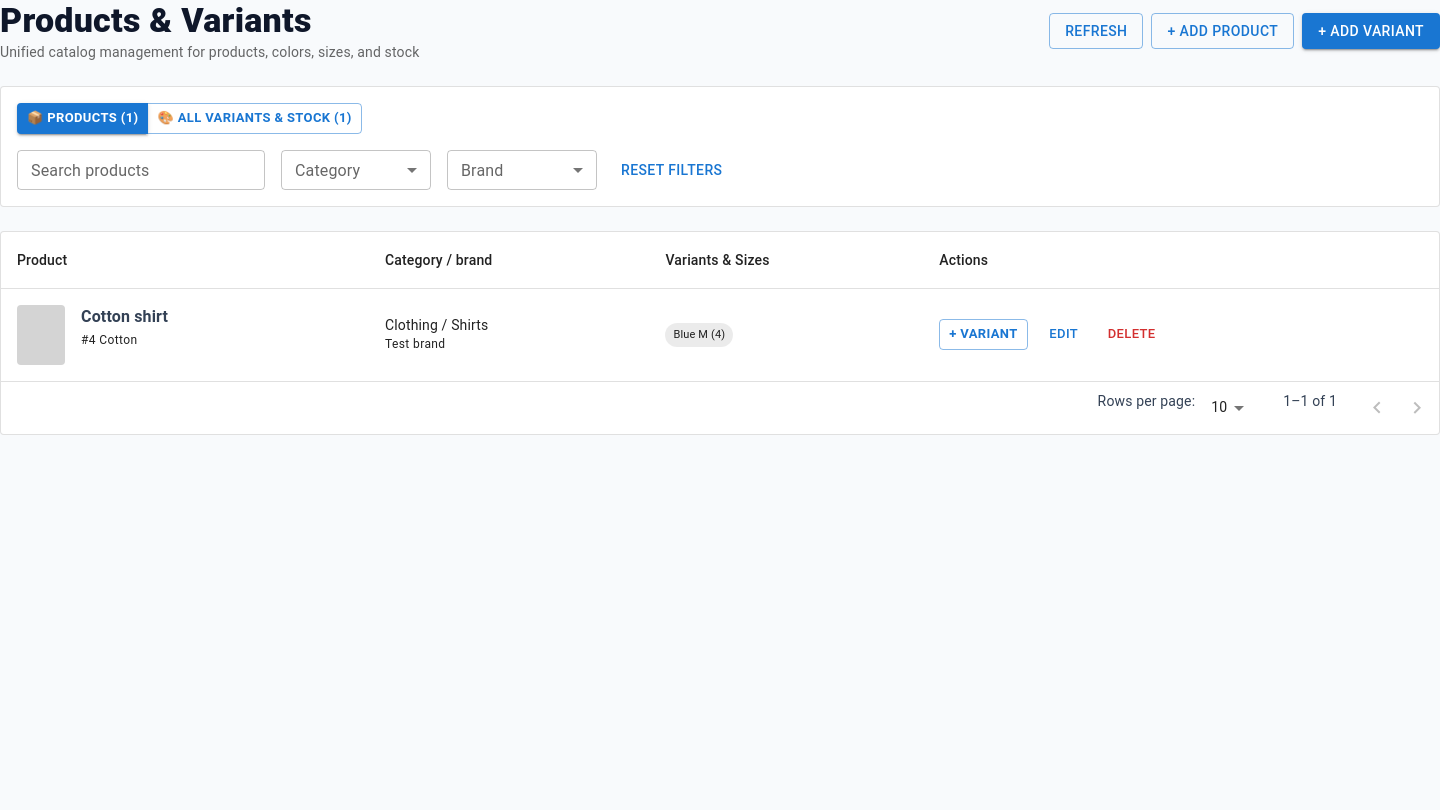
list search and delete errors are visible
The image size is (1440, 810).
Check: the text "Cotton shirt" is shown, box [81,305,168,329]
In the field labelled "Search products": (141, 170) [17,150,265,190], type "missing"
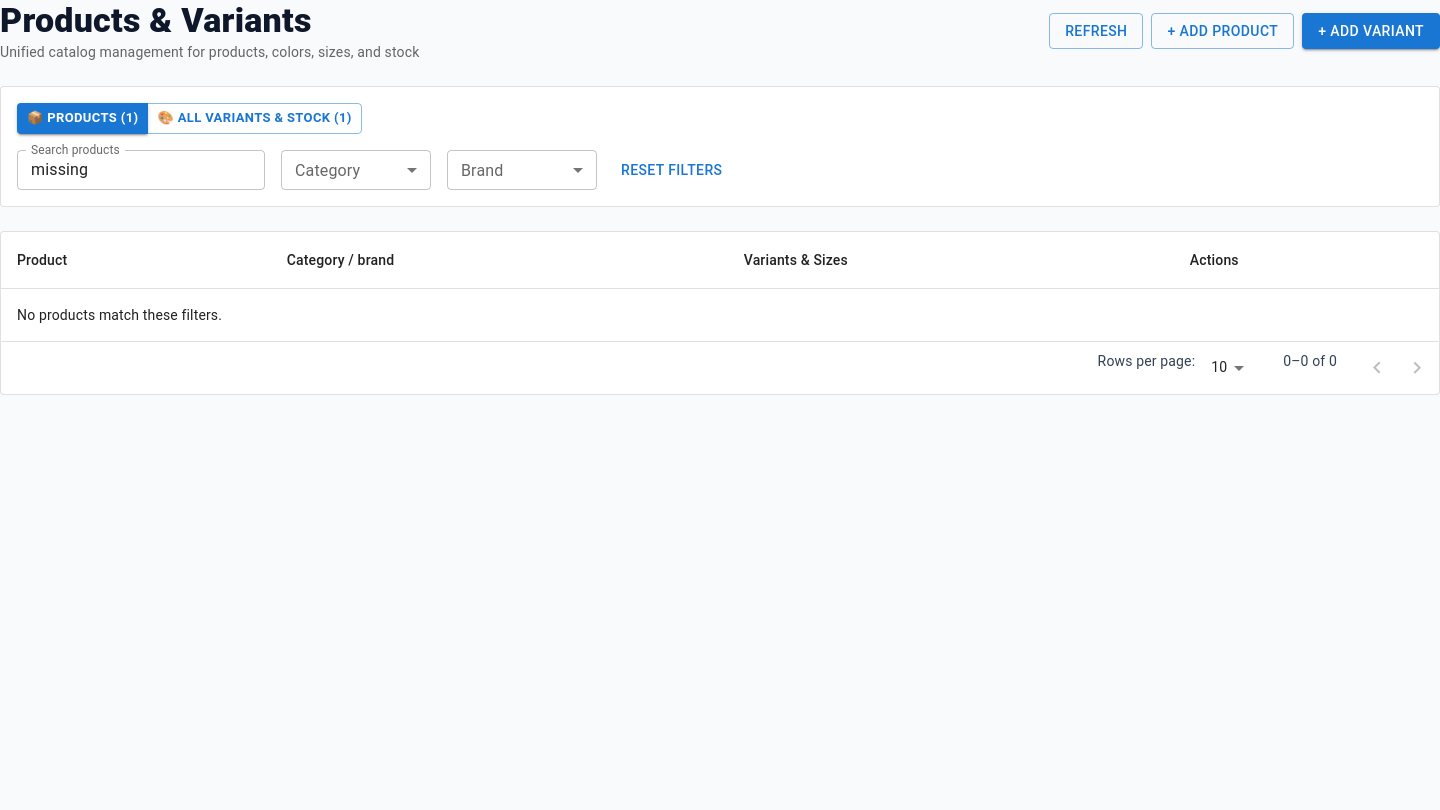
Check: the text "No products match these filters." is shown, box [1,288,1439,341]
Click the button "Reset filters": (672, 170) [613,150,730,190]
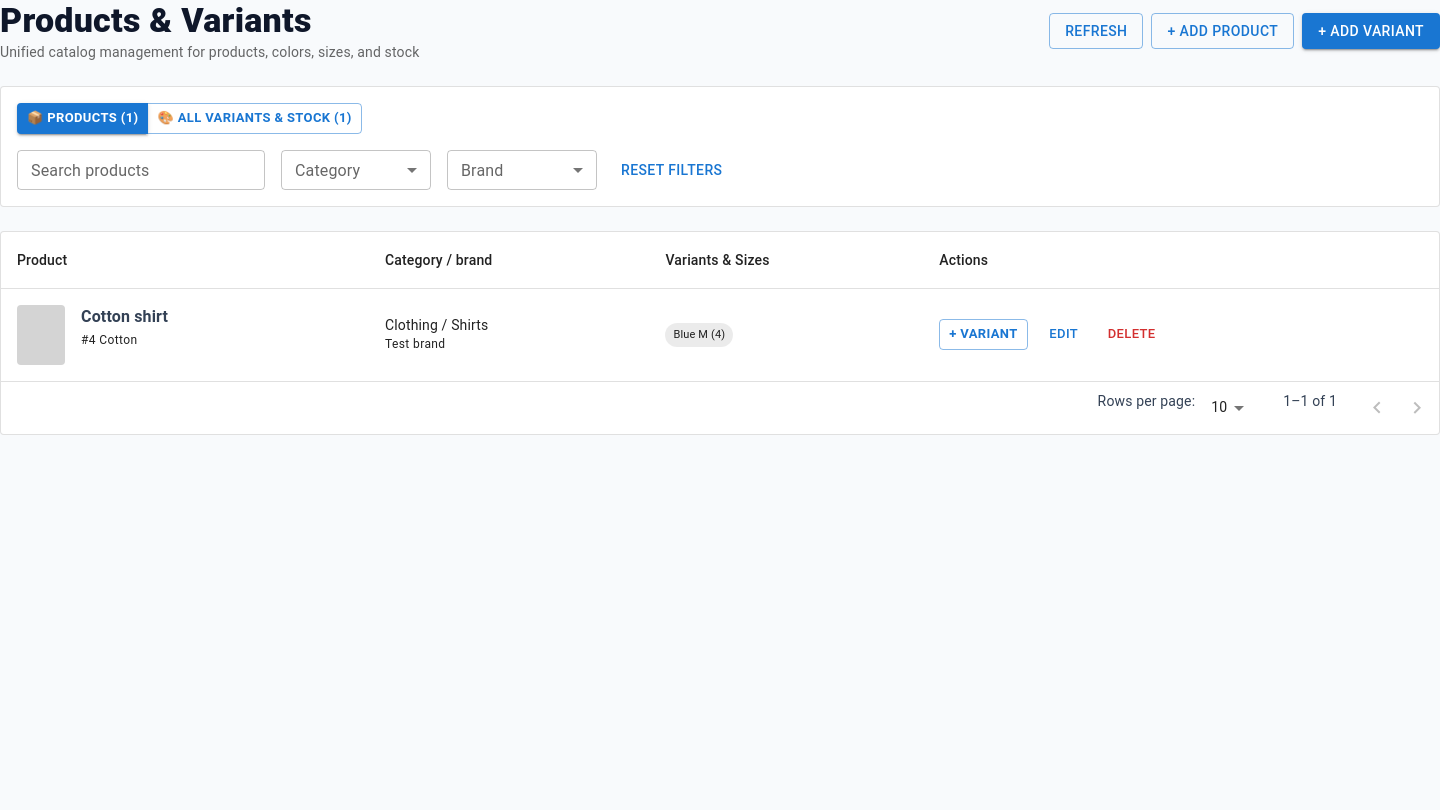
Click the button "Delete": (1132, 335) [1100,319,1164,350]
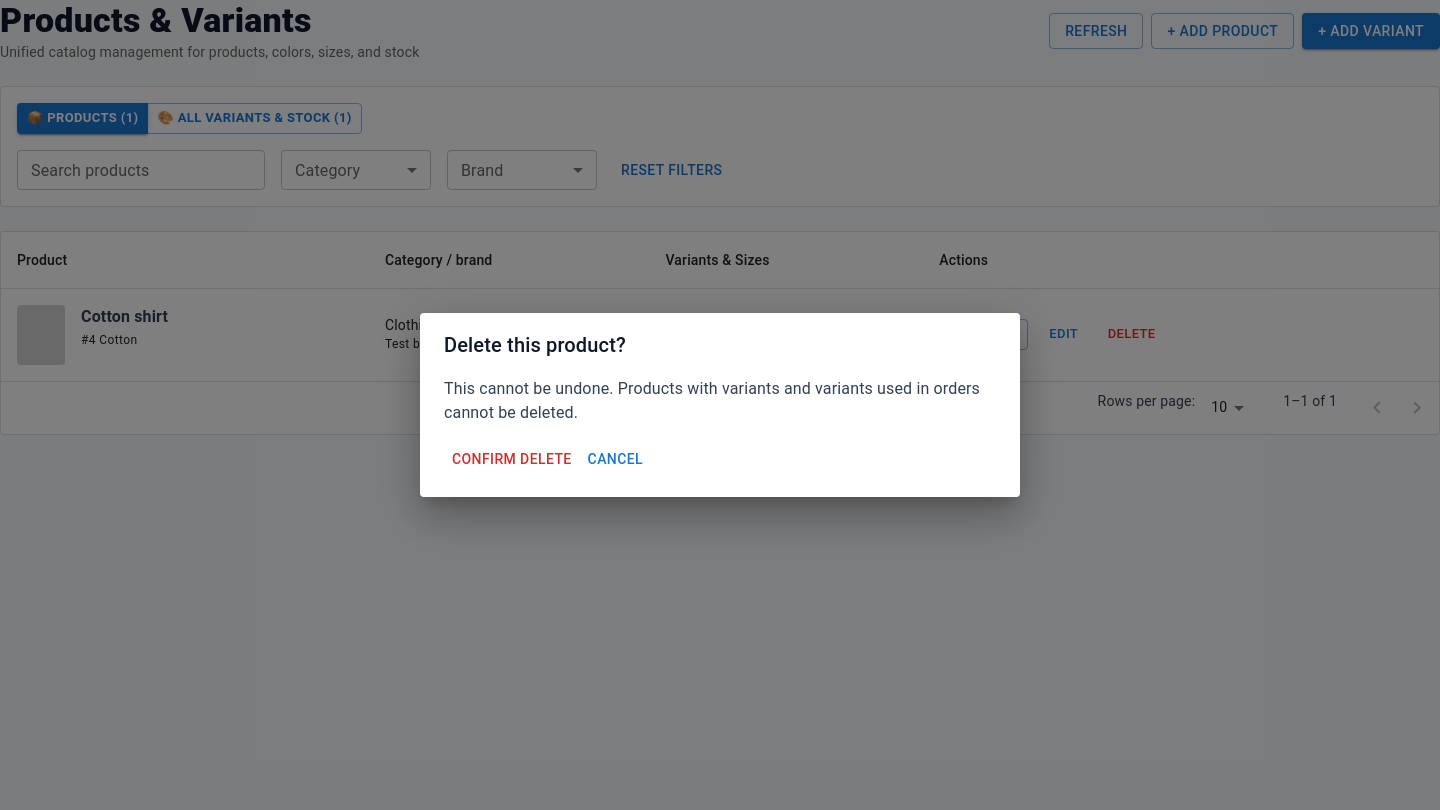
Click the button "Confirm delete": (512, 459) [444,441,580,477]
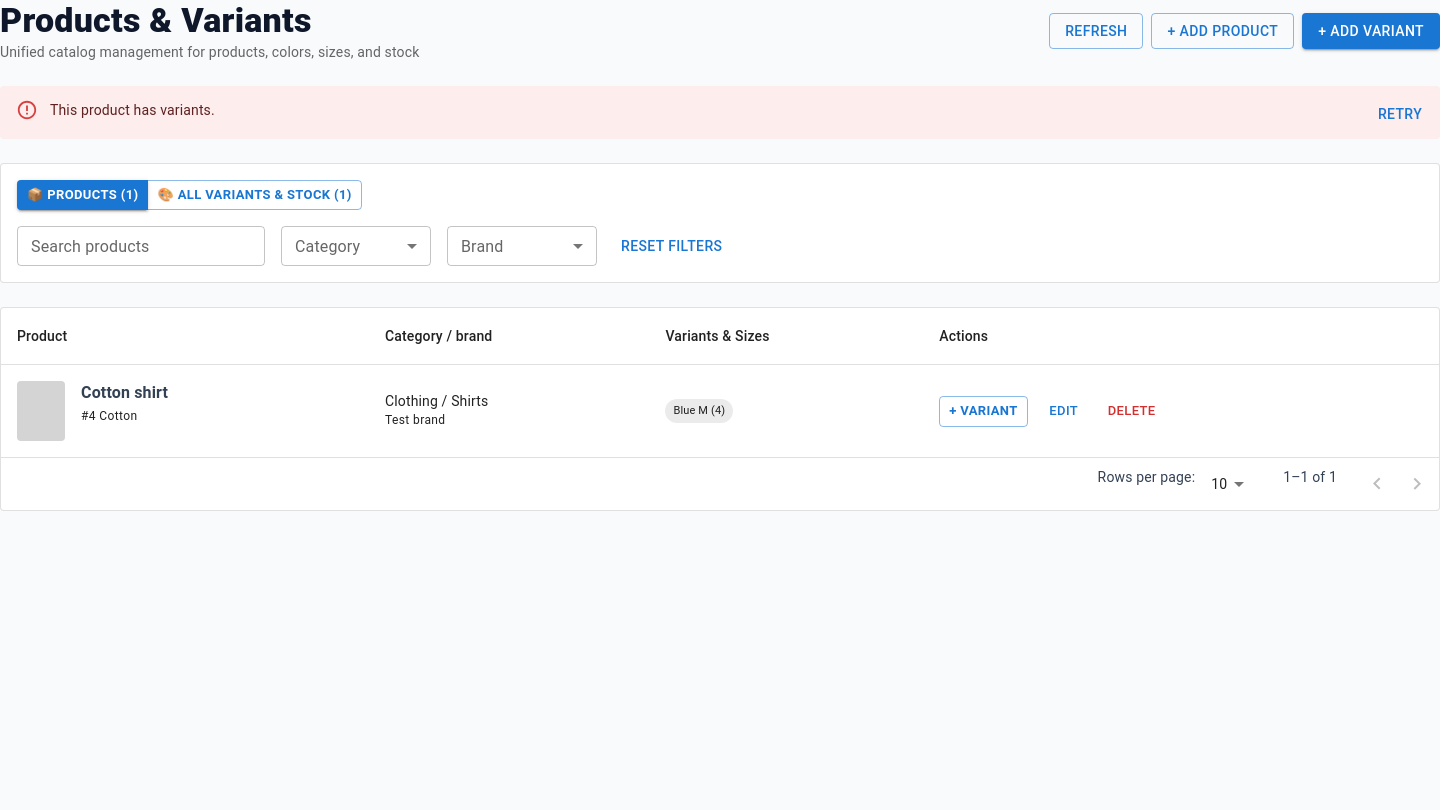
Check: the text "Cotton shirt" is shown, box [81,381,168,405]
Check: the text "This product has variants." is shown, box [50,102,215,118]
